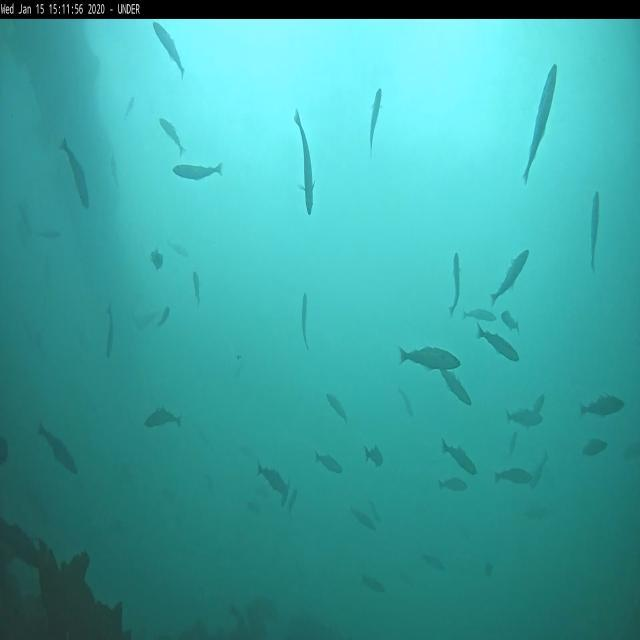fish: (522, 62, 556, 186), (294, 109, 316, 215), (37, 422, 80, 476), (491, 248, 529, 306), (60, 136, 90, 209), (398, 342, 461, 373), (152, 22, 185, 76), (476, 324, 521, 360), (442, 439, 477, 475), (579, 394, 625, 421), (443, 372, 474, 408), (158, 119, 186, 158), (256, 464, 289, 496), (173, 160, 223, 180), (144, 404, 180, 430), (368, 88, 382, 154), (589, 188, 599, 272), (504, 406, 542, 428), (449, 252, 461, 317), (494, 468, 532, 488), (531, 452, 550, 491), (580, 434, 608, 460), (300, 293, 312, 350), (437, 474, 468, 496), (316, 450, 343, 475), (326, 392, 346, 425), (397, 383, 415, 418), (350, 504, 374, 529), (164, 237, 190, 260), (360, 572, 383, 595), (463, 308, 496, 324), (500, 309, 520, 335), (104, 305, 113, 360), (364, 442, 384, 466), (157, 305, 170, 331), (192, 268, 200, 302)
